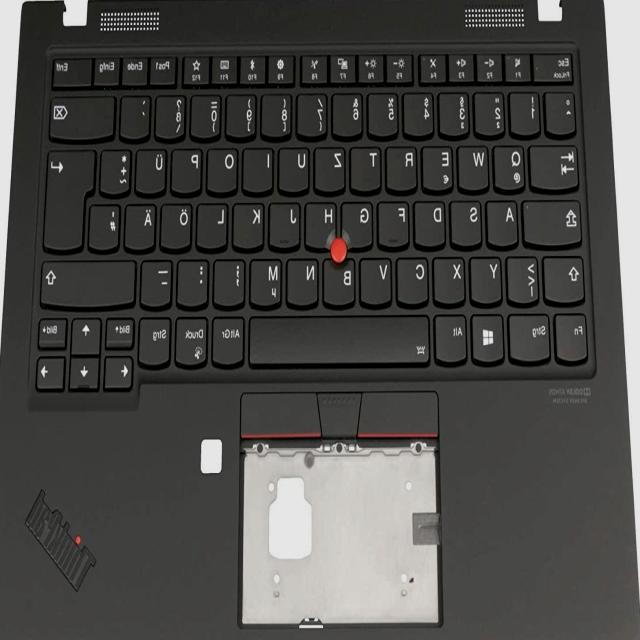0: (192, 91, 224, 138)
1: (511, 88, 543, 134)
2: (476, 89, 508, 135)
3: (440, 89, 472, 136)
4: (404, 89, 436, 135)
5: (369, 89, 401, 135)
6: (334, 90, 366, 136)
7: (298, 90, 330, 136)
8: (263, 91, 295, 137)
9: (227, 91, 259, 137)
a: (488, 197, 520, 245)
accent: (121, 92, 153, 138)
ae: (126, 200, 158, 250)
alt-left: (436, 310, 470, 362)
altgr-right: (214, 312, 248, 364)
b: (324, 255, 358, 305)
c: (397, 253, 431, 304)
caret: (547, 88, 579, 133)
comma: (215, 255, 247, 306)
d: (416, 197, 448, 247)
del: (49, 92, 117, 139)
e: (423, 143, 456, 191)
enter: (44, 145, 98, 250)
f: (380, 197, 412, 247)
g: (343, 198, 375, 248)
h: (306, 199, 339, 247)
hash: (91, 200, 123, 250)
i: (244, 144, 276, 191)
j: (271, 198, 303, 248)
k: (234, 199, 266, 249)
keyboard: (28, 40, 600, 406)
l: (198, 199, 230, 249)
less: (508, 252, 542, 303)
m: (251, 255, 285, 306)
minus: (142, 256, 176, 306)
n: (288, 255, 321, 306)
o: (209, 145, 241, 193)
oe: (162, 200, 195, 250)
p: (172, 145, 204, 193)
plus: (102, 145, 134, 193)
point: (179, 256, 212, 306)
q: (495, 142, 528, 190)
r: (387, 143, 420, 191)
s: (451, 196, 484, 246)
shift-left: (545, 252, 588, 302)
shift-lock: (524, 196, 585, 246)
shift-right: (41, 255, 139, 306)
space: (249, 311, 433, 364)
ss: (157, 92, 189, 138)
strg-left: (509, 310, 554, 362)
strg-right: (140, 313, 174, 366)
t: (351, 143, 383, 191)
tab: (531, 141, 581, 189)
u: (280, 144, 312, 192)
ue: (137, 145, 169, 195)
v: (361, 254, 393, 304)
w: (459, 142, 491, 190)
x: (435, 253, 467, 304)
y: (471, 253, 504, 303)
z: (315, 143, 347, 193)
